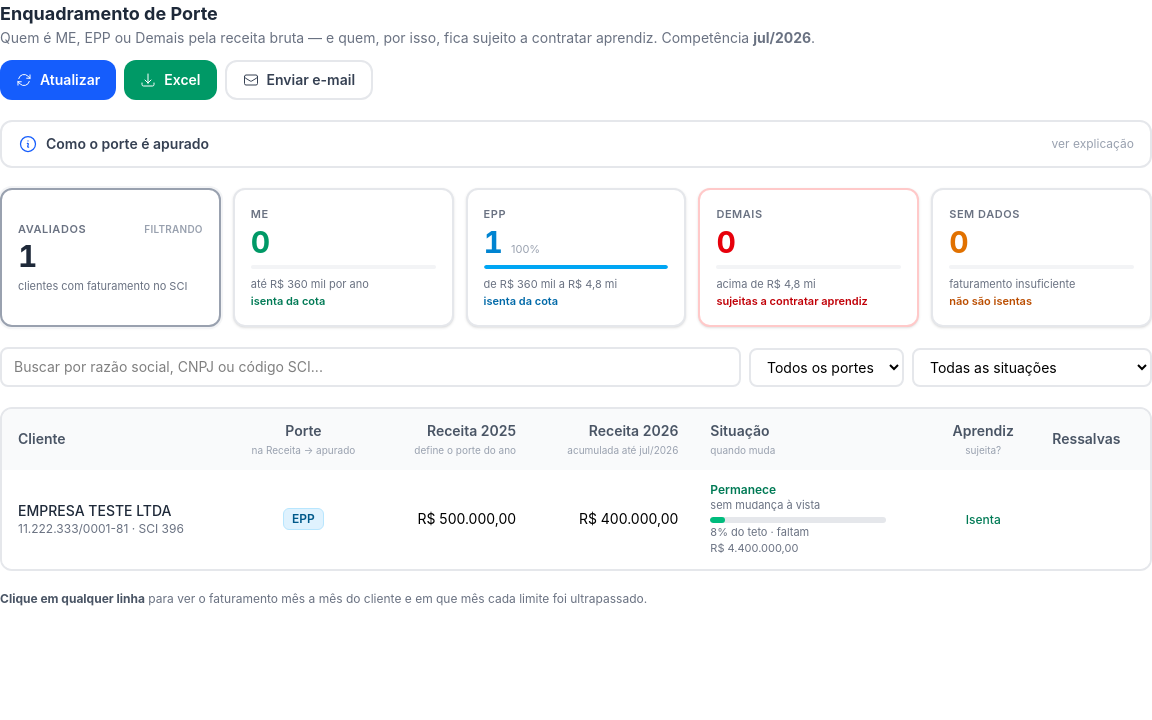
CotaAprendizagemTab › o modal oferece os dois caminhos, com o custo de cada um
The width and height of the screenshot is (1152, 720).
Expected: the text "EMPRESA TESTE LTDA" is shown, [18, 502, 172, 519]
Click the button "Atualizar": (58, 80) [0, 60, 116, 100]
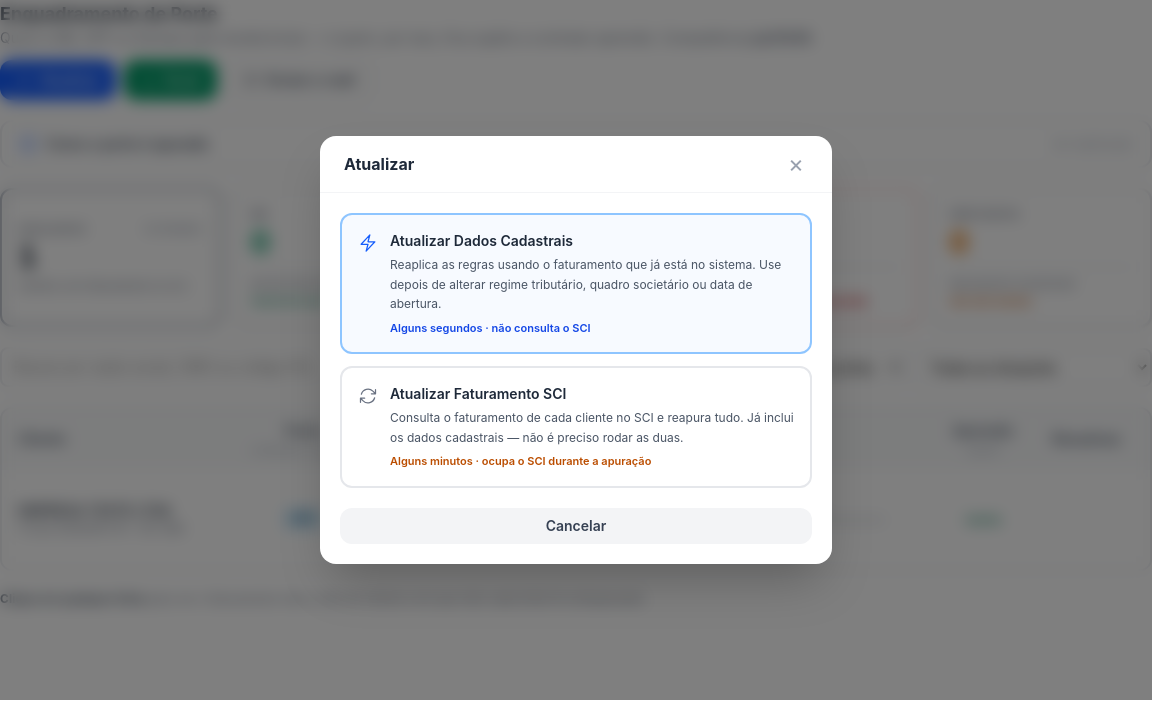
Expected: the button "Atualizar Dados Cadastrais" is shown, [340, 213, 812, 354]
Expected: the button "Atualizar Faturamento SCI" is shown, [340, 366, 812, 488]
Expected: the text "Alguns segundos · não consulta o SCI" is shown, [390, 321, 591, 335]
